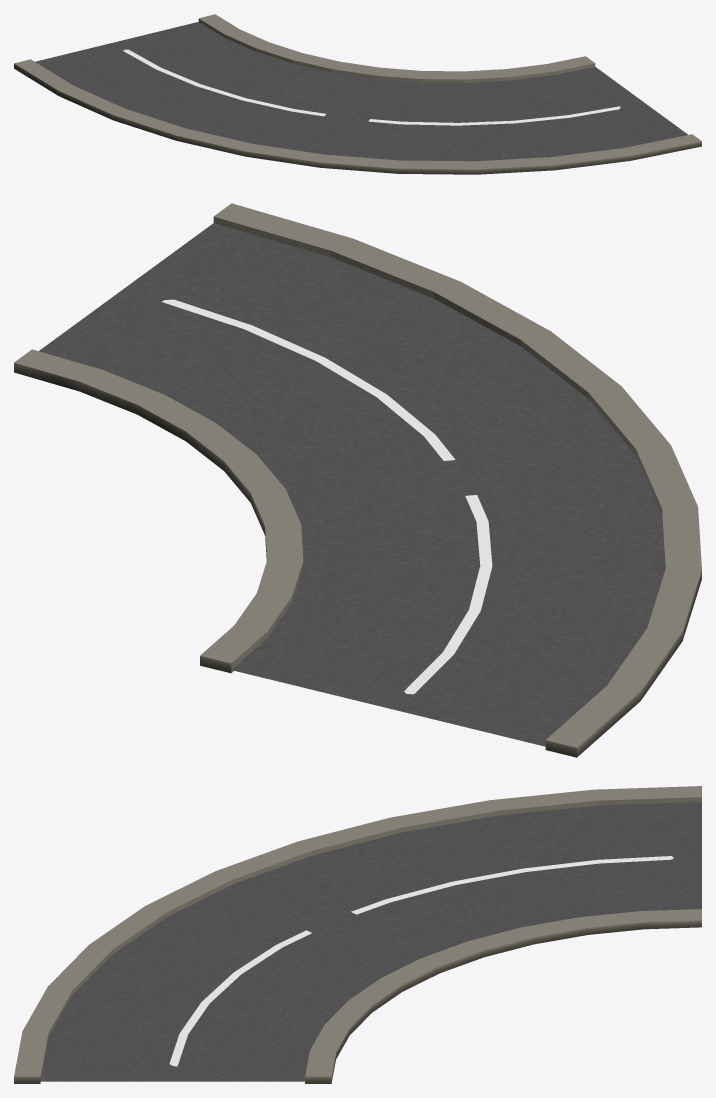
3 views of the same model, one above another, from view 1: azimuth 30°, elevation 25°; view 2: azimuth 150°, elevation 25°; view 3: azimuth 270°, elevation 25° (orthographic). The views are drawn at different scales.
Parts seen in each view (by area): view 1: Road_1E; view 2: Road_1E; view 3: Road_1E.
Part boxes in pixels (x1,y1,x2,y2): Road_1E: (14,14,701,174); Road_1E: (14,203,701,757); Road_1E: (14,786,701,1083).
Size of the model in its own units: 32389 by 374 by 32389.
